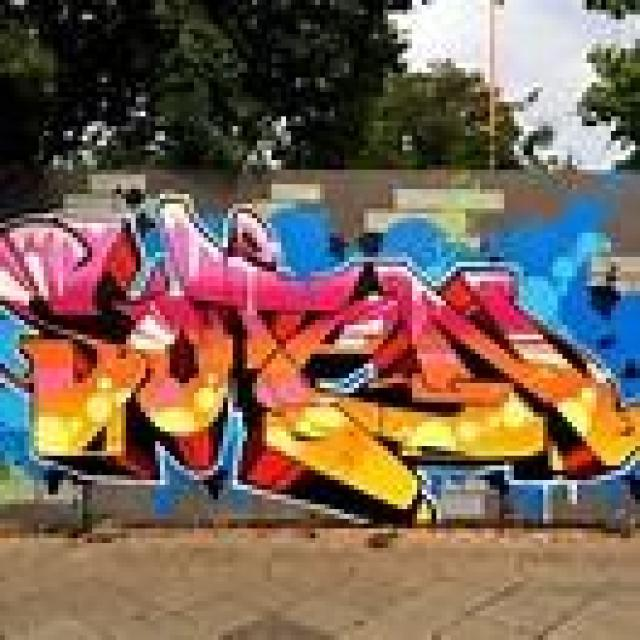nonspitting: (0, 194, 640, 520)
